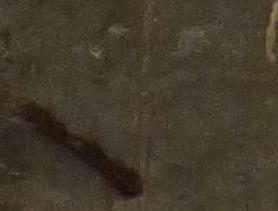Exposed reinforcement: (24, 105, 144, 200)
